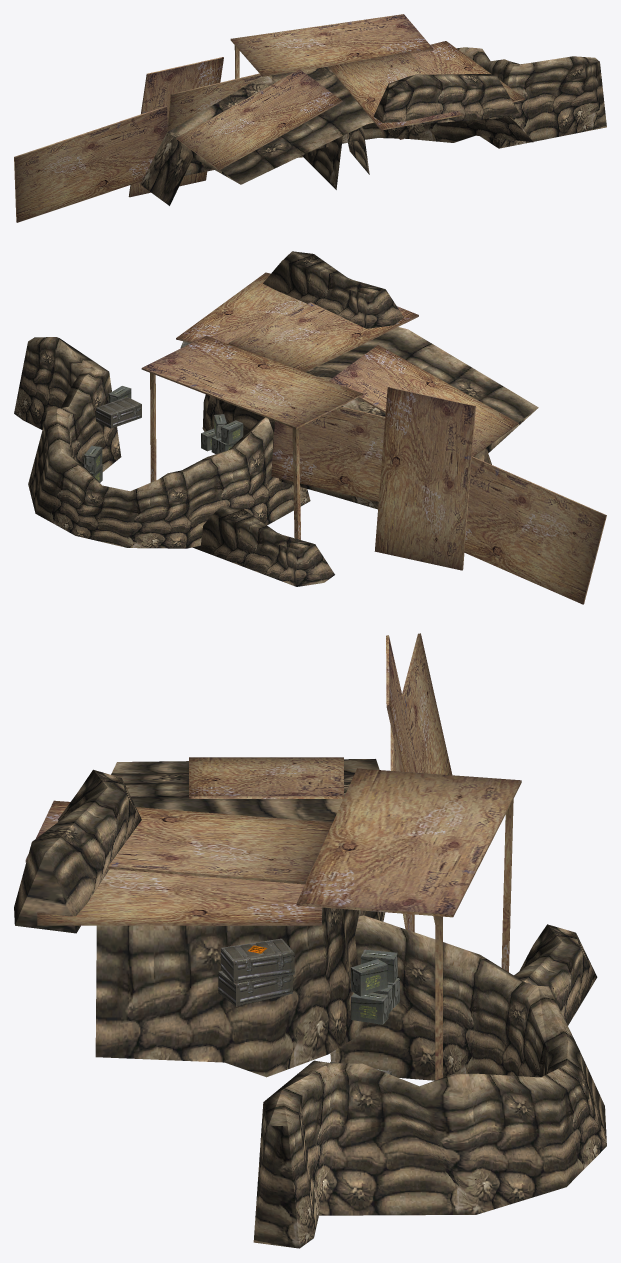
The model's file is StadHut2.glb.
3 views of the same model, one above another, from view 1: azimuth 30°, elevation 25°; view 2: azimuth 150°, elevation 25°; view 3: azimuth 270°, elevation 25° (orthographic). The views are drawn at different scales.
Parts seen in each view (by area): view 1: _StadHut2; view 2: _StadHut2; view 3: _StadHut2.
Boxes of the visible parts, left/top/right/bottom form: _StadHut2: left=14, top=14, right=606, bottom=222; _StadHut2: left=14, top=251, right=606, bottom=604; _StadHut2: left=14, top=633, right=606, bottom=1248.
Bounding box in the file's own units: 15.81 × 4.23 × 8.11.
3 materials, 3 textured.
